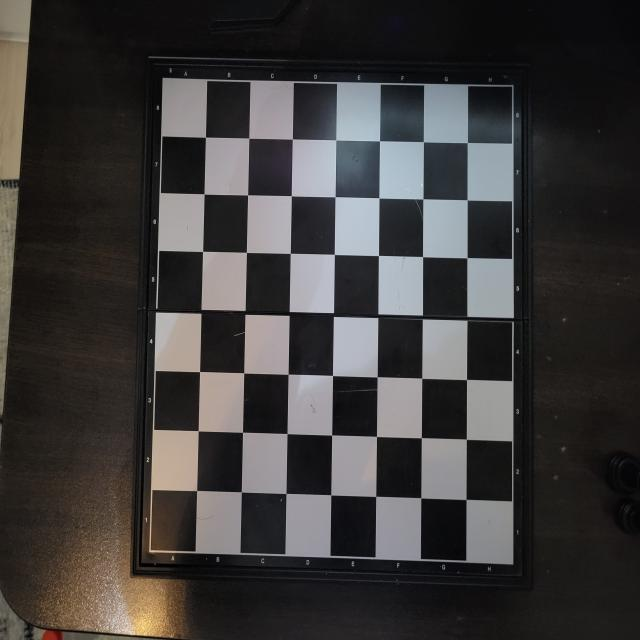chess-board: (140, 54, 524, 577)
